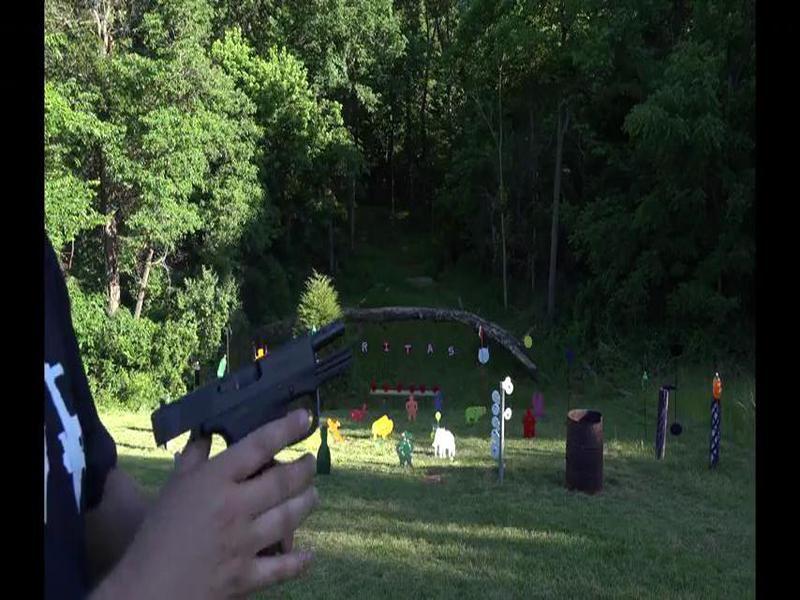Pistola: (147, 310, 367, 500)
